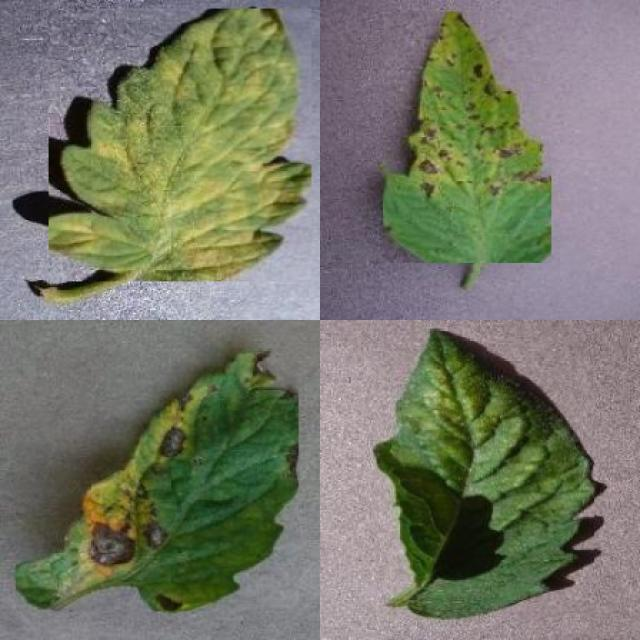Early Blight: (17, 348, 300, 612)
Leaf Mold: (49, 8, 311, 282)
Septoria: (383, 12, 551, 264)
Spider Mites: (374, 329, 595, 620)
